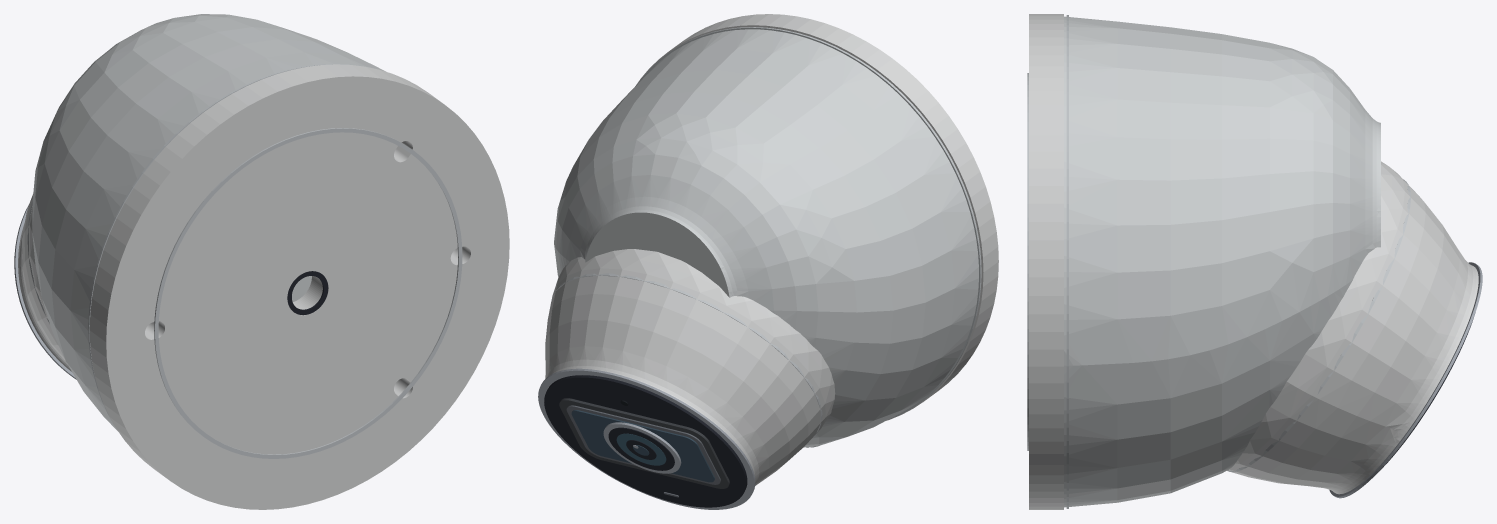
The model's file is camera.glb.
3 views of the same model, side by side, from view 1: azimuth 30°, elevation 25°; view 2: azimuth 150°, elevation 25°; view 3: azimuth 270°, elevation 25° (orthographic). The views are drawn at different scales.
Visible parts, largest first — view 1: 01_Base_superior_con_4_ranuras, 03_Carcasa_exterior_turret, 19_Aro_posterior, 04_Cabezal_orientable_blanco, 02_Junta_perimetral, 06_Ribete_perimetral_objetivo, 21_Orificio_cable_oscuro; view 2: 03_Carcasa_exterior_turret, 04_Cabezal_orientable_blanco, 01_Base_superior_con_4_ranuras, 07_Placa_circular_frontal_negra, 10_Cristal_rectangular, 06_Ribete_perimetral_objetivo, 08_Contorno_receptor_optico, 02_Junta_perimetral, 09_Contorno_interno_receptor, 05_Junta_cabezal, 12_Anillo_interior_lente, 11_Anillo_externo_lente (+1 smaller); view 3: 03_Carcasa_exterior_turret, 04_Cabezal_orientable_blanco, 01_Base_superior_con_4_ranuras, 02_Junta_perimetral, 06_Ribete_perimetral_objetivo, 05_Junta_cabezal, 19_Aro_posterior.
Part boxes in pixels (x1,y1,x2,y2): 01_Base_superior_con_4_ranuras: (89,64,509,509); 03_Carcasa_exterior_turret: (32,14,385,431); 19_Aro_posterior: (154,128,462,458); 04_Cabezal_orientable_blanco: (18,194,71,371); 02_Junta_perimetral: (88,63,374,423); 06_Ribete_perimetral_objetivo: (14,205,76,379); 21_Orificio_cable_oscuro: (287,271,328,315); 03_Carcasa_exterior_turret: (554,28,981,447); 04_Cabezal_orientable_blanco: (545,249,835,490); 01_Base_superior_con_4_ranuras: (639,14,998,420); 07_Placa_circular_frontal_negra: (544,375,747,507); 10_Cristal_rectangular: (571,410,714,482); 06_Ribete_perimetral_objetivo: (538,368,755,509); 08_Contorno_receptor_optico: (559,398,729,488); 02_Junta_perimetral: (636,27,981,420); 09_Contorno_interno_receptor: (566,405,720,484); 05_Junta_cabezal: (551,273,822,437); 12_Anillo_interior_lente: (608,427,674,470); 11_Anillo_externo_lente: (603,422,681,473); 03_Carcasa_exterior_turret: (1064,16,1380,507); 04_Cabezal_orientable_blanco: (1228,161,1478,494); 01_Base_superior_con_4_ranuras: (1029,14,1063,509); 02_Junta_perimetral: (1066,15,1068,508); 06_Ribete_perimetral_objetivo: (1329,262,1482,498); 05_Junta_cabezal: (1227,179,1410,472); 19_Aro_posterior: (1027,73,1028,450).
Bounding box in the file's own units: 110 × 110 × 101.
